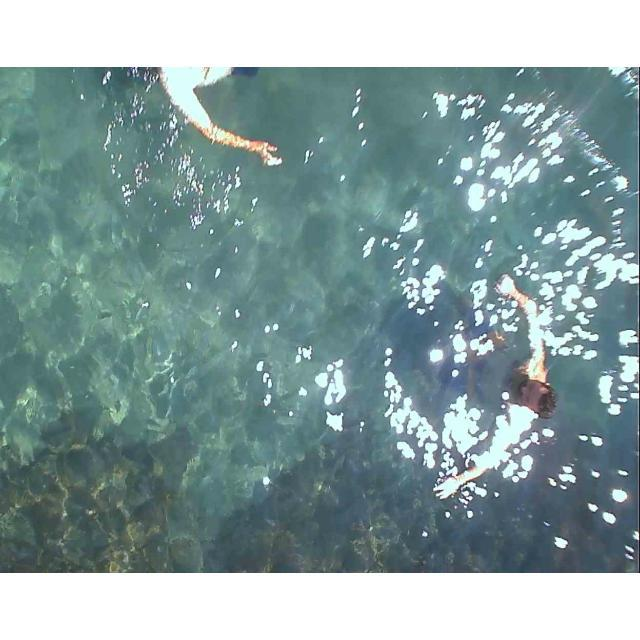human: (158, 67, 326, 202), (465, 255, 551, 503)
